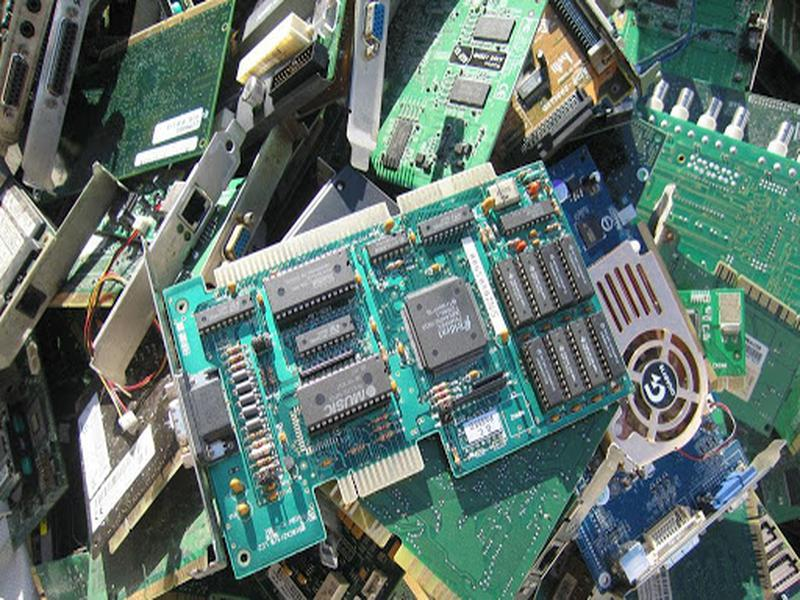circuit_board: (135, 160, 636, 582), (58, 1, 245, 187), (370, 3, 554, 190)
